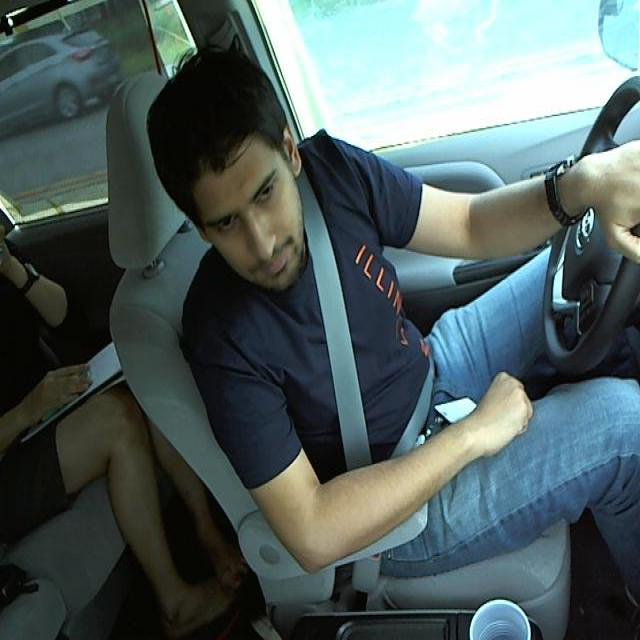seatbelt: (311, 208, 442, 451)
